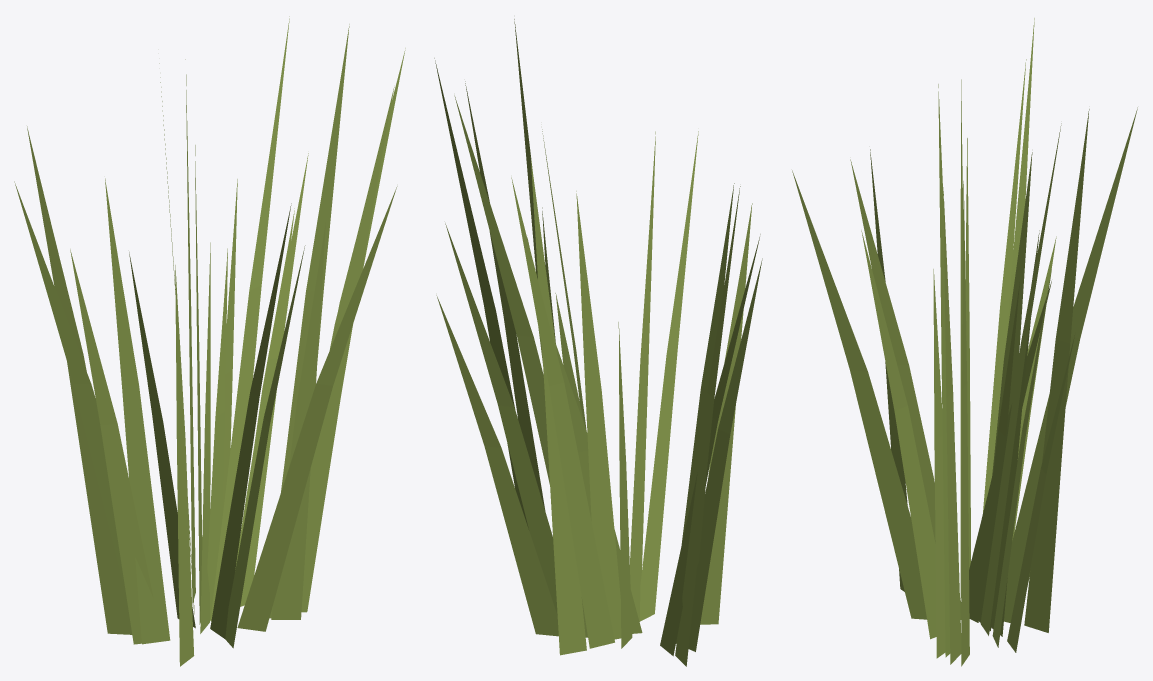
The model's file is Grass_Tuft_Tall.fbx.
The picture shows the model from 3 angles, left to right: view 1: azimuth 30°, elevation 25°; view 2: azimuth 150°, elevation 25°; view 3: azimuth 270°, elevation 25°; orthographic projection. The views are drawn at different scales.
Parts seen in each view (by area): view 1: Grass_Tuft_Tall.001; view 2: Grass_Tuft_Tall.001; view 3: Grass_Tuft_Tall.001.
Part boxes in pixels (x1=…): Grass_Tuft_Tall.001: x1=14, y1=16, x2=405, y2=666; Grass_Tuft_Tall.001: x1=434, y1=19, x2=762, y2=666; Grass_Tuft_Tall.001: x1=792, y1=18, x2=1137, y2=666.
Bounding box in the file's own units: 0.5055 × 0.7818 × 0.4091.
